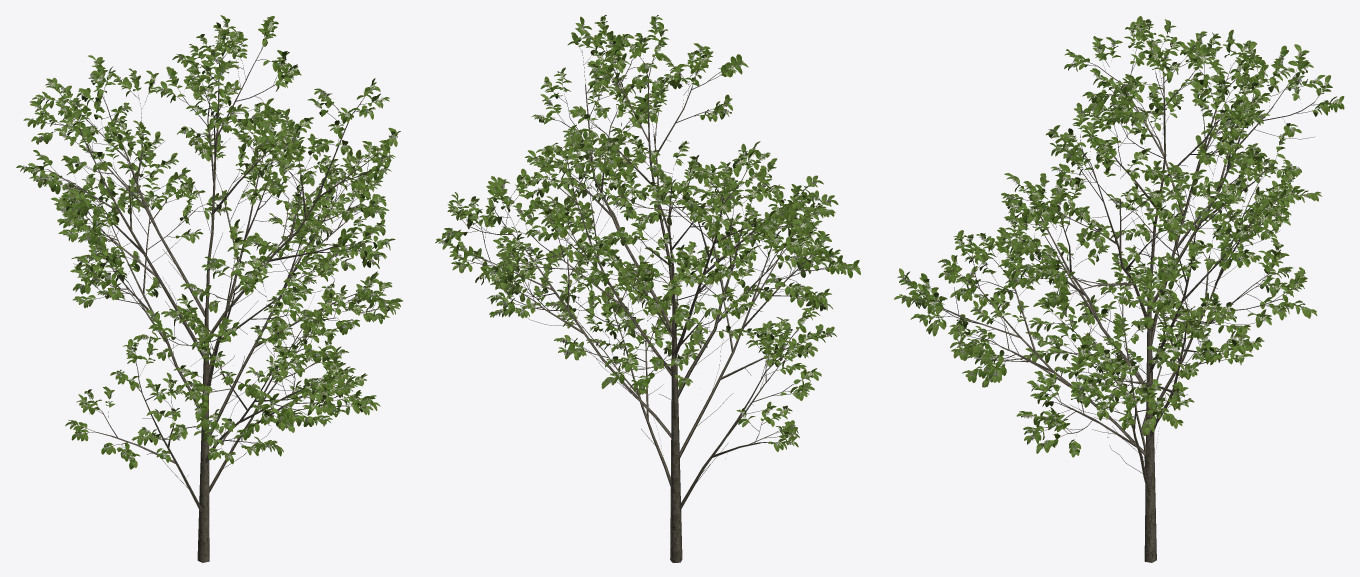
Rendered from Amelanchier canadensis002_LOW.FBX.
The picture shows the model from 3 angles, left to right: view 1: azimuth 30°, elevation 25°; view 2: azimuth 150°, elevation 25°; view 3: azimuth 270°, elevation 25°; orthographic projection. The views are drawn at different scales.
Parts seen in each view (by area): view 1: Amelanchier canadensis002_LOW; view 2: Amelanchier canadensis002_LOW; view 3: Amelanchier canadensis002_LOW.
Part boxes in pixels (box(x1,y1,x2,y2)): Amelanchier canadensis002_LOW: box(16, 15, 402, 562); Amelanchier canadensis002_LOW: box(435, 15, 860, 562); Amelanchier canadensis002_LOW: box(894, 16, 1344, 562).
Size of the model in its own units: 2563 by 3666 by 2710.
